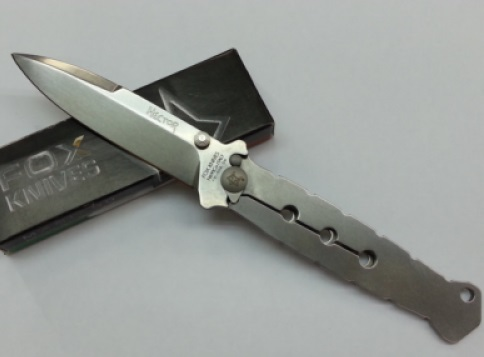knife: (5, 44, 219, 193)
